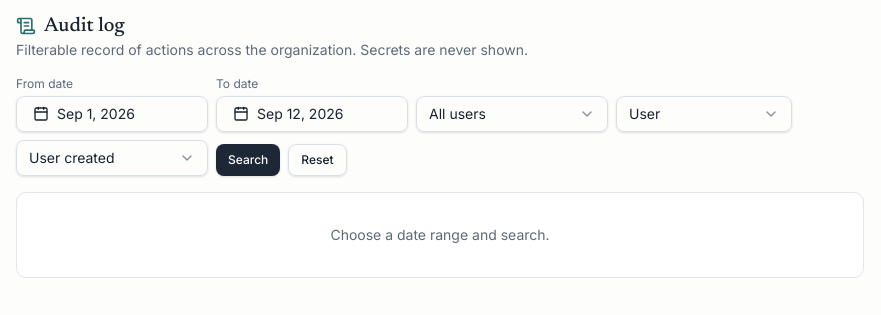
Scenario: AdminAudit › sends action and resourceType after Search and retries after a list failure
Click the button "Search": click(248, 160) [216,144,280,176]
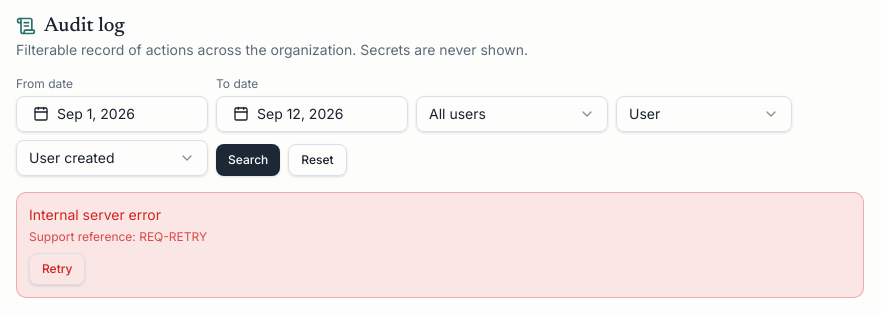
Now the message shows "Internal server error", box [29,206,161,223]
Click the button "Retry": click(57, 269) [29,253,86,285]
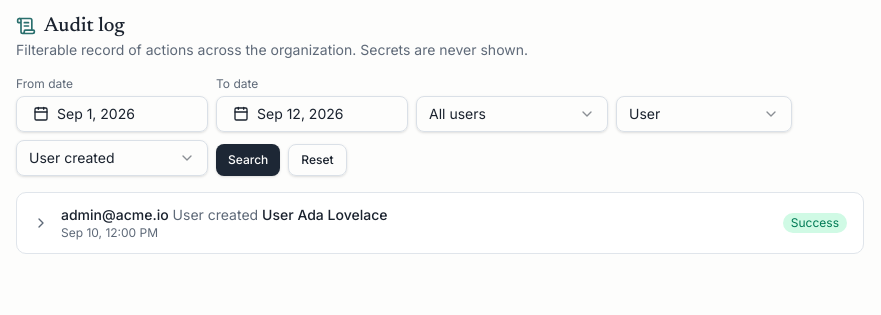
Now the text "admin@acme.io" is shown, box [61,206,169,223]
